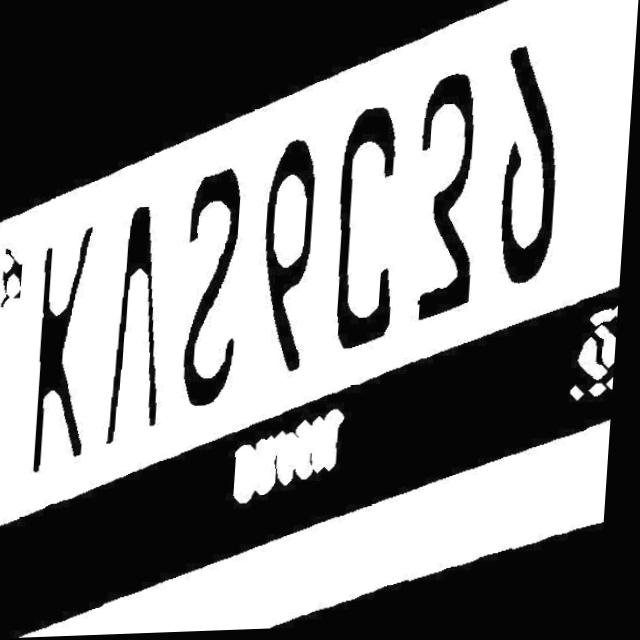3: (402, 69, 495, 330)
6: (256, 135, 332, 391)
9: (492, 40, 576, 302)
c: (326, 97, 422, 352)
k: (29, 228, 106, 481)
s: (177, 161, 259, 414)
v: (97, 201, 179, 458)
